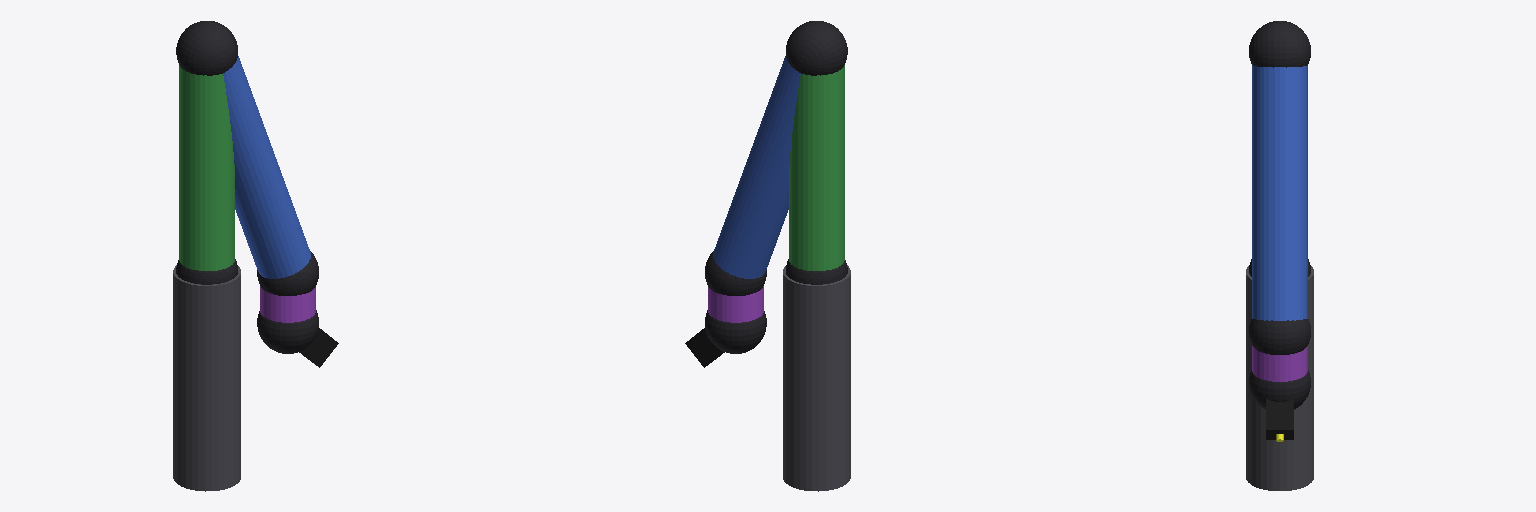
robot.urdf — uf850_primitive:
<?xml version="1.0"?>
<robot name="uf850_primitive">
  <link name="link_base">
    <visual><origin xyz="0.0000 0.0000 0.1820" rpy="0 0.0000 0.0000"/><geometry><cylinder radius="0.0550" length="0.3640"/></geometry><material name="seg"><color rgba="0.35 0.35 0.38 1"/></material></visual>
    <collision><origin xyz="0.0000 0.0000 0.1820" rpy="0 0.0000 0.0000"/><geometry><cylinder radius="0.0550" length="0.3640"/></geometry></collision>
    <inertial><mass value="0.5"/><inertia ixx="0.002" iyy="0.002" izz="0.002" ixy="0" ixz="0" iyz="0"/></inertial>
  </link>
  <joint name="joint1" type="revolute">
    <parent link="link_base"/><child link="link1"/>
    <origin xyz="0.0000 0.0000 0.3640" rpy="0.0000 0.0000 0.0000"/>
    <axis xyz="0 0 1"/>
    <limit lower="-3.11018" upper="3.11018" effort="200" velocity="3.14"/>
  </joint>
  <link name="link1">
    <visual><geometry><sphere radius="0.0500"/></geometry><material name="knk"><color rgba="0.2 0.2 0.22 1"/></material></visual>
    <inertial><mass value="0.5"/><inertia ixx="0.002" iyy="0.002" izz="0.002" ixy="0" ixz="0" iyz="0"/></inertial>
  </link>
  <joint name="joint2" type="revolute">
    <parent link="link1"/><child link="link2"/>
    <origin xyz="0.0000 0.0000 0.0000" rpy="1.5708 -1.5708 0.0000"/>
    <axis xyz="0 0 1"/>
    <limit lower="-2.30383" upper="2.30383" effort="200" velocity="3.14"/>
  </joint>
  <link name="link2">
    <visual><geometry><sphere radius="0.0500"/></geometry><material name="knk"><color rgba="0.2 0.2 0.22 1"/></material></visual>
    <visual><origin xyz="0.1950 0.0000 0.0000" rpy="0 1.5708 0.0000"/><geometry><cylinder radius="0.0450" length="0.3900"/></geometry><material name="seg"><color rgba="0.30 0.65 0.35 1"/></material></visual>
    <collision><origin xyz="0.1950 0.0000 0.0000" rpy="0 1.5708 0.0000"/><geometry><cylinder radius="0.0450" length="0.3900"/></geometry></collision>
    <inertial><mass value="0.5"/><inertia ixx="0.002" iyy="0.002" izz="0.002" ixy="0" ixz="0" iyz="0"/></inertial>
  </link>
  <joint name="joint3" type="revolute">
    <parent link="link2"/><child link="link3"/>
    <origin xyz="0.3900 0.0000 0.0000" rpy="-3.1416 0.0000 -1.5708"/>
    <axis xyz="0 0 1"/>
    <limit lower="-4.22370" upper="0.06109" effort="200" velocity="3.14"/>
  </joint>
  <link name="link3">
    <visual><geometry><sphere radius="0.0500"/></geometry><material name="knk"><color rgba="0.2 0.2 0.22 1"/></material></visual>
    <visual><origin xyz="0.0750 0.2130 0.0000" rpy="0 1.5708 1.2322"/><geometry><cylinder radius="0.0450" length="0.4516"/></geometry><material name="seg"><color rgba="0.30 0.45 0.80 1"/></material></visual>
    <collision><origin xyz="0.0750 0.2130 0.0000" rpy="0 1.5708 1.2322"/><geometry><cylinder radius="0.0450" length="0.4516"/></geometry></collision>
    <inertial><mass value="0.5"/><inertia ixx="0.002" iyy="0.002" izz="0.002" ixy="0" ixz="0" iyz="0"/></inertial>
  </link>
  <joint name="joint4" type="revolute">
    <parent link="link3"/><child link="link4"/>
    <origin xyz="0.1500 0.4260 0.0000" rpy="-1.5708 0.0000 0.0000"/>
    <axis xyz="0 0 1"/>
    <limit lower="-3.11018" upper="3.11018" effort="200" velocity="3.14"/>
  </joint>
  <link name="link4">
    <visual><geometry><sphere radius="0.0500"/></geometry><material name="knk"><color rgba="0.2 0.2 0.22 1"/></material></visual>
    <inertial><mass value="0.5"/><inertia ixx="0.002" iyy="0.002" izz="0.002" ixy="0" ixz="0" iyz="0"/></inertial>
  </link>
  <joint name="joint5" type="revolute">
    <parent link="link4"/><child link="link5"/>
    <origin xyz="0.0000 0.0000 0.0000" rpy="-1.5708 0.0000 0.0000"/>
    <axis xyz="0 0 1"/>
    <limit lower="-2.16420" upper="2.16420" effort="200" velocity="3.14"/>
  </joint>
  <link name="link5">
    <visual><geometry><sphere radius="0.0500"/></geometry><material name="knk"><color rgba="0.2 0.2 0.22 1"/></material></visual>
    <visual><origin xyz="0.0000 -0.0450 0.0000" rpy="0 1.5708 -1.5708"/><geometry><cylinder radius="0.0450" length="0.0900"/></geometry><material name="seg"><color rgba="0.65 0.35 0.80 1"/></material></visual>
    <collision><origin xyz="0.0000 -0.0450 0.0000" rpy="0 1.5708 -1.5708"/><geometry><cylinder radius="0.0450" length="0.0900"/></geometry></collision>
    <inertial><mass value="0.5"/><inertia ixx="0.002" iyy="0.002" izz="0.002" ixy="0" ixz="0" iyz="0"/></inertial>
  </link>
  <joint name="joint6" type="revolute">
    <parent link="link5"/><child link="link6"/>
    <origin xyz="0.0000 -0.0900 0.0000" rpy="1.5708 0.0000 0.0000"/>
    <axis xyz="0 0 1"/>
    <limit lower="-3.11018" upper="3.11018" effort="200" velocity="3.14"/>
  </joint>
  <link name="link6">
    <visual><geometry><sphere radius="0.0500"/></geometry><material name="knk"><color rgba="0.2 0.2 0.22 1"/></material></visual>
    <inertial><mass value="0.5"/><inertia ixx="0.002" iyy="0.002" izz="0.002" ixy="0" ixz="0" iyz="0"/></inertial>
  </link>
  <joint name="tool_mount" type="fixed">
    <parent link="link6"/><child link="extruder"/>
    <origin xyz="0 0 0" rpy="0.0000 0.7854 0.0000"/>
  </joint>
  <link name="extruder">
    <visual><origin xyz="0 0 0.0450"/><geometry><box size="0.05 0.045 0.0900"/></geometry><material name="ext"><color rgba="0.15 0.15 0.15 1"/></material></visual>
    <inertial><mass value="0.5"/><inertia ixx="0.002" iyy="0.002" izz="0.002" ixy="0" ixz="0" iyz="0"/></inertial>
  </link>
  <joint name="nozzle" type="fixed">
    <parent link="extruder"/><child link="tool_tip"/>
    <origin xyz="0 0 0.1000" rpy="0 0 0"/>
  </joint>
  <link name="tool_tip">
    <visual><origin xyz="0 0 -0.012"/><geometry><cylinder radius="0.006" length="0.024"/></geometry><material name="noz"><color rgba="0.9 0.9 0.2 1"/></material></visual>
    <inertial><mass value="0.05"/><inertia ixx="1e-5" iyy="1e-5" izz="1e-5" ixy="0" ixz="0" iyz="0"/></inertial>
  </link>
</robot>

--- What the picture shows (computed from the rendered views, not written in the file) ---
Views: 3 orthographic renders of the robot side by side, from view 1: azimuth 30°, elevation 25°; view 2: azimuth 150°, elevation 25°; view 3: azimuth 270°, elevation 25°.
Robot: uf850_primitive — 9 links, 8 joints (6 revolute, 2 fixed); root link link_base; default pose: every joint at zero.
Visible links, largest first — view 1: link_base, link3, link2, link5, link6, extruder; view 2: link_base, link3, link2, link5, link6, extruder; view 3: link3, link_base, link5, link6, extruder, link4.
Boxes of the visible links, box(x1,y1,x2,y2) form: link_base: box(173, 265, 240, 491); link3: box(176, 21, 310, 278); link2: box(176, 65, 237, 284); link5: box(257, 251, 318, 322); link6: box(257, 310, 318, 353); extruder: box(299, 328, 338, 367); link_base: box(783, 265, 850, 491); link3: box(713, 21, 847, 278); link2: box(786, 65, 847, 284); link5: box(705, 251, 766, 322); link6: box(705, 310, 766, 353); extruder: box(685, 328, 724, 367); link3: box(1249, 21, 1310, 320); link_base: box(1246, 266, 1313, 490); link5: box(1249, 319, 1310, 381); link6: box(1249, 370, 1310, 409); extruder: box(1266, 399, 1293, 439); link4: box(1250, 319, 1309, 354).
Size in the robot's own frame: 0.2863 by 0.11 by 0.804 metres.
Geometry: primitives only (box / cylinder / sphere), no mesh files.
